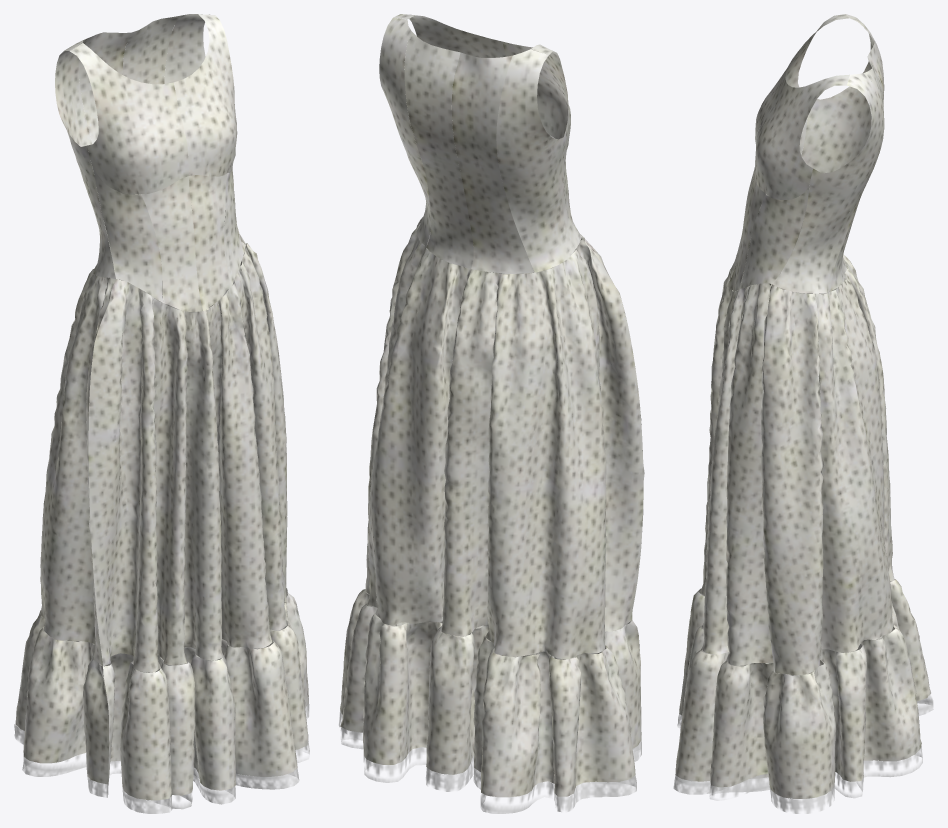
3 views of the same model, side by side, from view 1: azimuth 30°, elevation 25°; view 2: azimuth 150°, elevation 25°; view 3: azimuth 270°, elevation 25° (orthographic). The views are drawn at different scales.
Parts seen in each view (by area): view 1: CB; view 2: CB; view 3: CB.
Part boxes in pixels (box(x1,y1,x2,y2)): CB: box(14, 14, 309, 813); CB: box(339, 14, 644, 813); CB: box(673, 14, 933, 813).
Size of what is drawn, in the model's own units: 0.5556 by 1.36 by 0.4481.
Materials: 2 (2 with a texture image).
